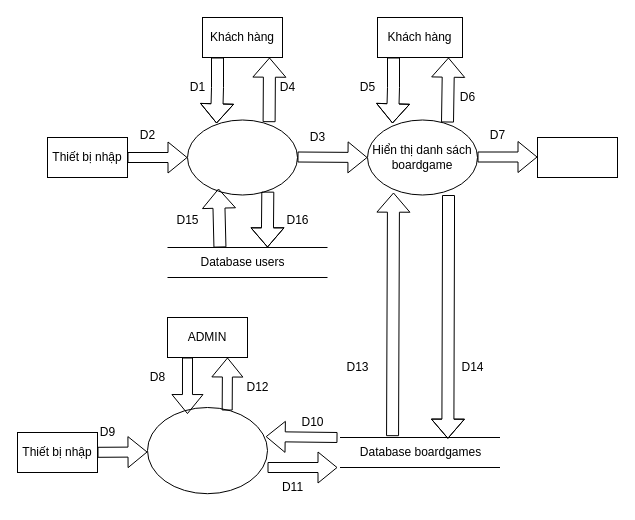
Image size: 635x520. Some labels were removed from this diagram. The shapes that lost their labels are listed below. From the top down, each one's centre as x and y in pixels, then its label:
(x=242, y=157): Đăng nhập
(x=577, y=157): Thiết bị xuất
(x=207, y=450): Nhập thông tin boardgame
